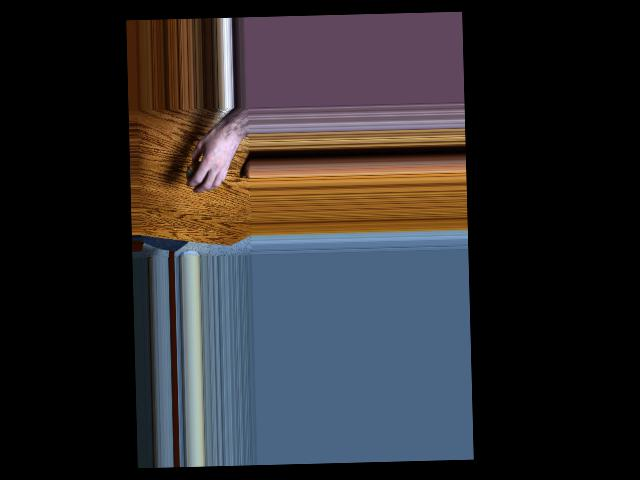onion: (185, 158, 211, 190)
